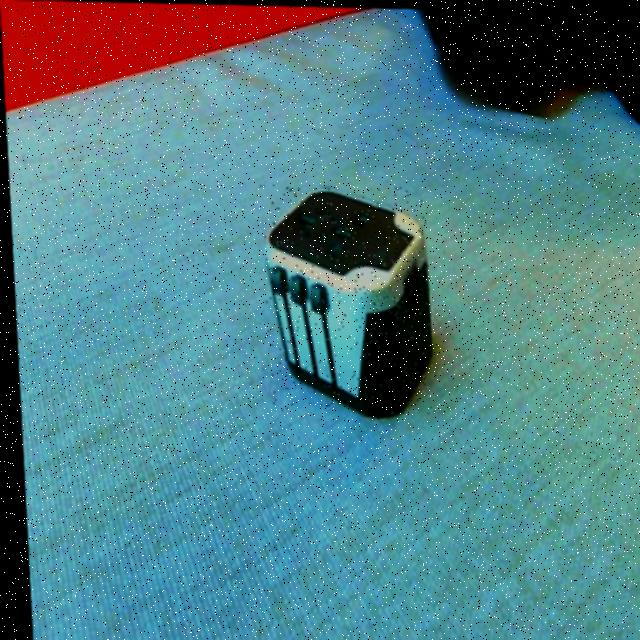adapter: (258, 183, 432, 416)
